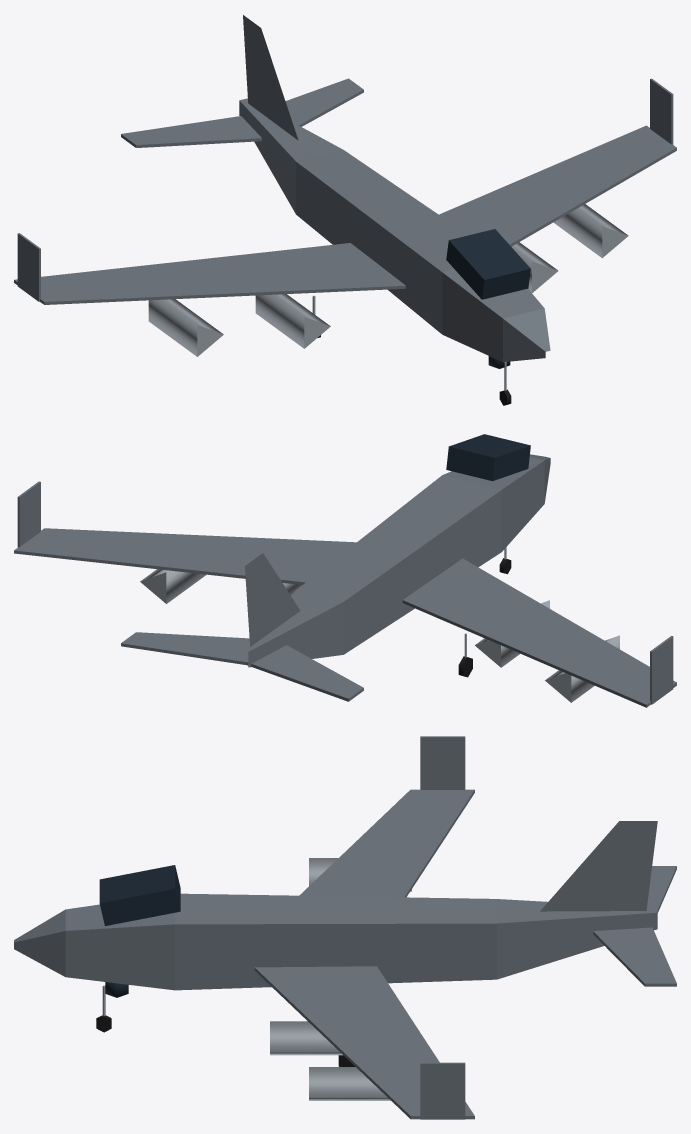
File: veh_air_airliner_a08_lod2.glb
The picture shows the model from 3 angles, top to bottom: view 1: azimuth 30°, elevation 25°; view 2: azimuth 150°, elevation 25°; view 3: azimuth 270°, elevation 25°; orthographic projection. The views are drawn at different scales.
Parts seen in each view (by area): view 1: body; view 2: body; view 3: body.
Boxes of the visible parts, box(x1,y1,x2,y2) form: body: box(14, 15, 676, 368); body: box(14, 434, 676, 707); body: box(14, 736, 676, 1119).
Size of the model in its own units: 26.24 by 7.88 by 22.45.
